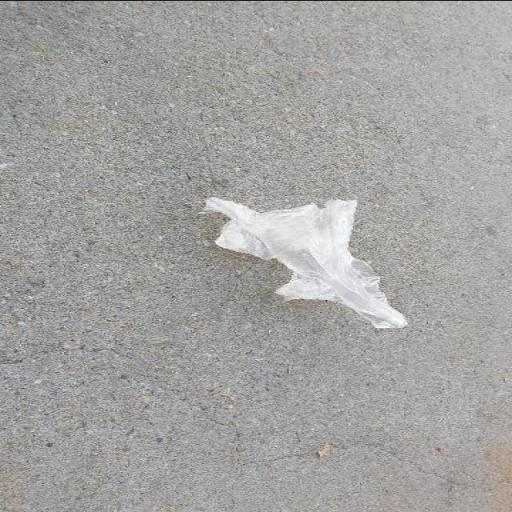plastic-bag: (200, 196, 414, 330)
